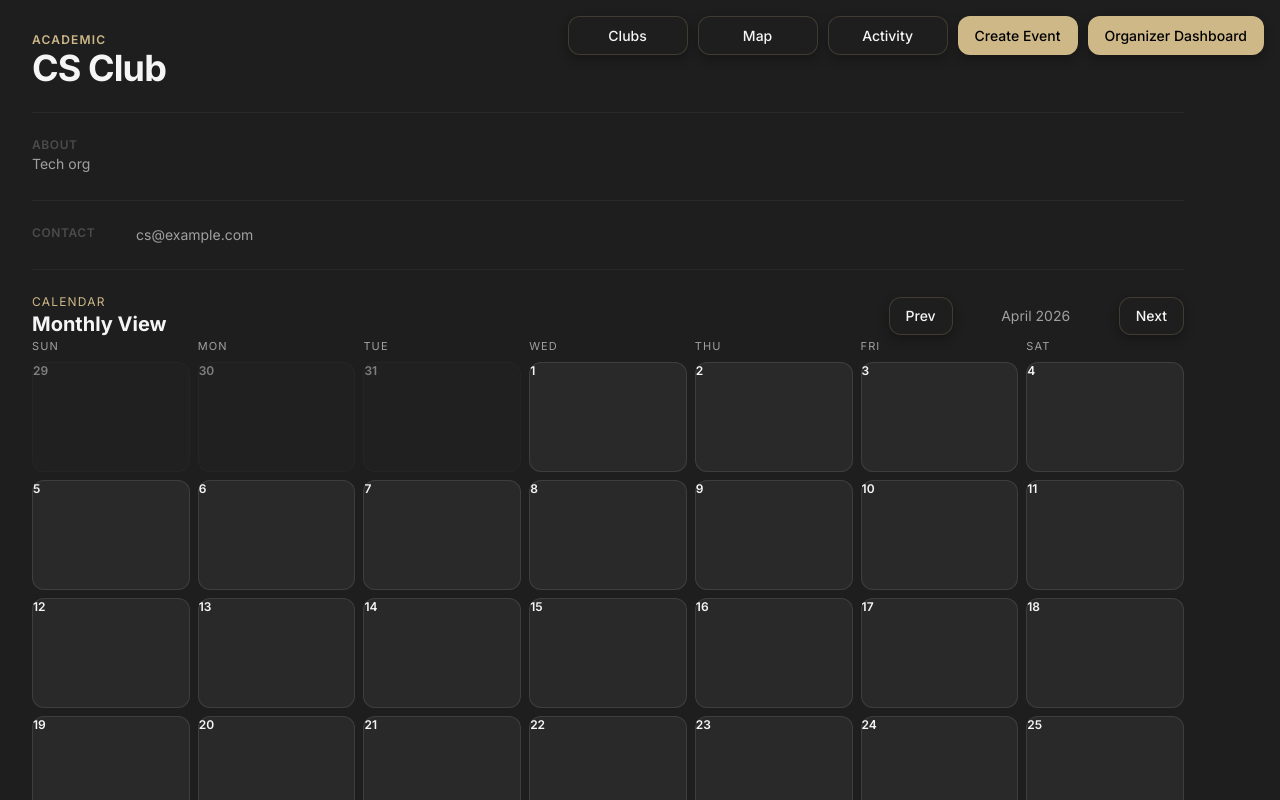
Test: ClubProfile page › shows inline modal error when creating an event with missing fields
Expected: the heading "CS Club" is shown, [32,46,166,90]
Click the button "Create Event": click(1018, 36) [958,16,1078,55]
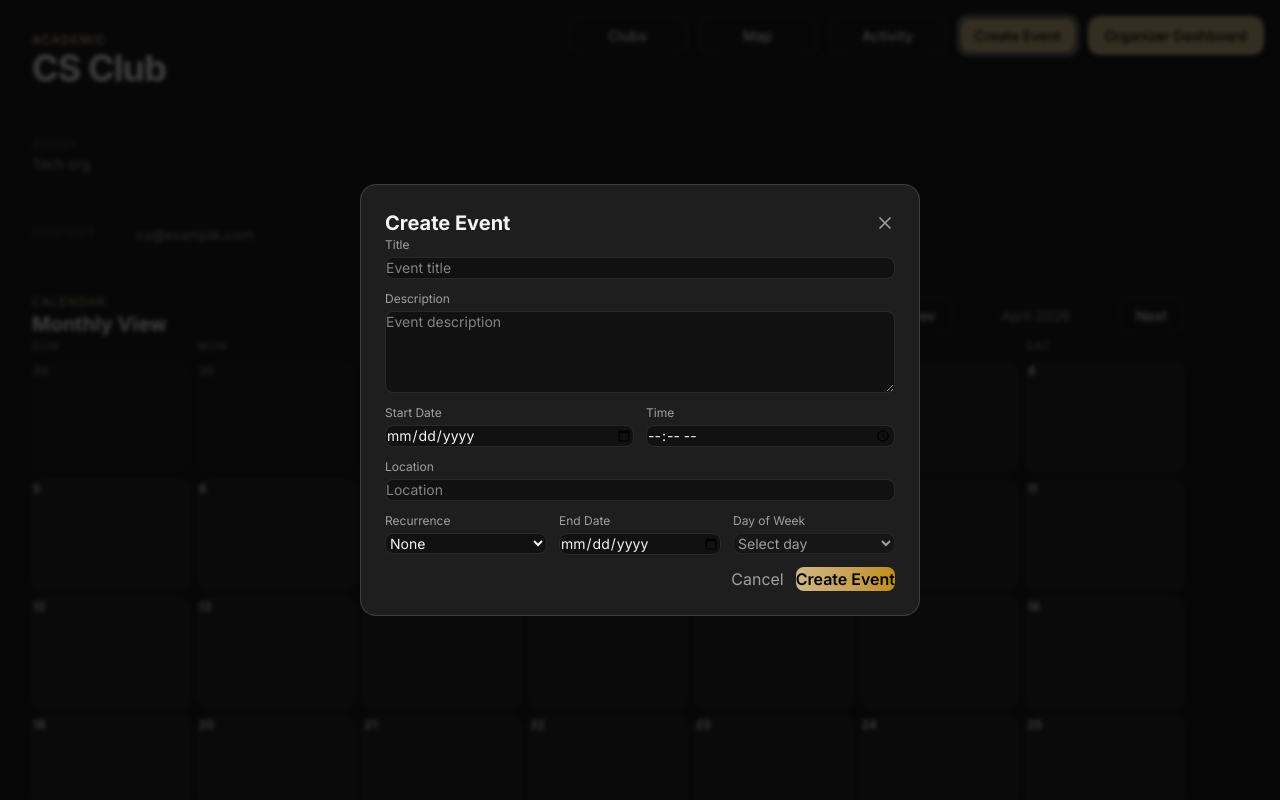
Click the button "Create Event": click(845, 579) [796,567,895,591]
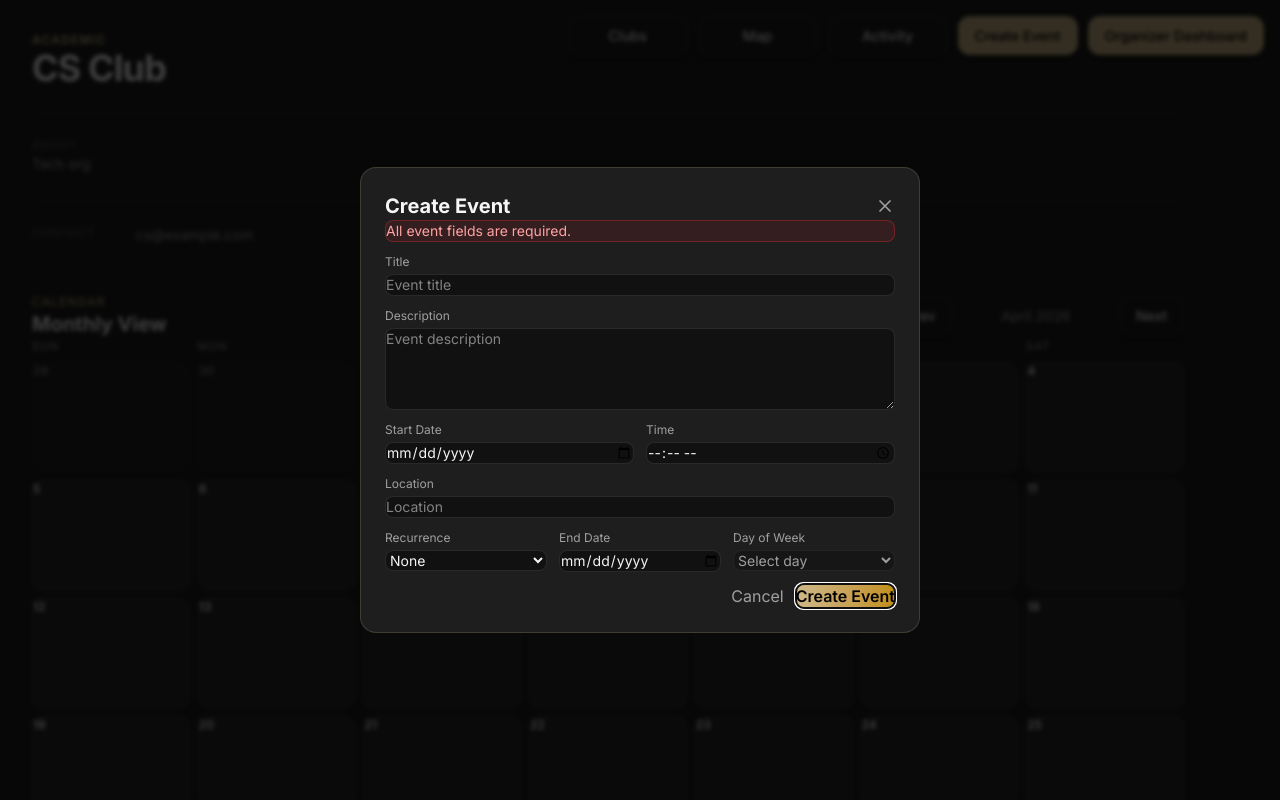
Now the text "All event fields are required." is shown, box [385,220,895,242]
